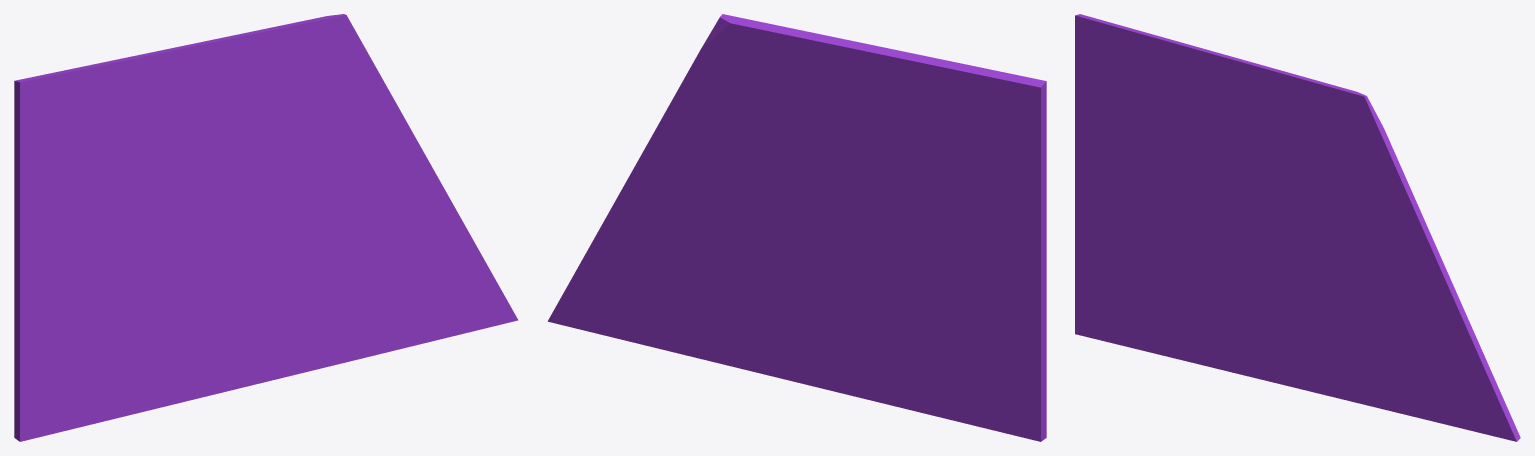
Rendered from Window_36_1_chunks.fbx.
3 renders of one model, left to right at view 1: azimuth 30°, elevation 25°; view 2: azimuth 150°, elevation 25°; view 3: azimuth 330°, elevation 25°, orthographic. The views are drawn at different scales.
Visible parts, largest first — view 1: Window_36_1_4, Window_36_1_8, Window_36_1_5, Window_36_1_21, Window_36_1_7, Window_36_1_2, Window_36_1_6, Window_36_1_20, Window_36_1_14, Window_36_1_19, Window_36_1_26, Window_36_1_3 (+18 smaller); view 2: Window_36_1_4, Window_36_1_8, Window_36_1_21, Window_36_1_2, Window_36_1_5, Window_36_1_3, Window_36_1_7, Window_36_1_14, Window_36_1_0, Window_36_1_20, Window_36_1_6, Window_36_1_26 (+13 smaller); view 3: Window_36_1_4, Window_36_1_8, Window_36_1_5, Window_36_1_21, Window_36_1_7, Window_36_1_2, Window_36_1_6, Window_36_1_20, Window_36_1_14, Window_36_1_19, Window_36_1_26, Window_36_1_3 (+18 smaller).
Boxes of the visible parts, x1,y1,x2,y2 form: Window_36_1_4: (14, 241, 189, 441); Window_36_1_8: (14, 57, 155, 223); Window_36_1_5: (14, 132, 171, 277); Window_36_1_21: (259, 233, 413, 371); Window_36_1_7: (123, 26, 288, 136); Window_36_1_2: (280, 14, 405, 134); Window_36_1_6: (167, 87, 273, 214); Window_36_1_20: (195, 298, 305, 393); Window_36_1_14: (319, 120, 415, 233); Window_36_1_19: (188, 213, 266, 325); Window_36_1_26: (394, 241, 498, 339); Window_36_1_3: (132, 307, 217, 414); Window_36_1_4: (881, 243, 1046, 441); Window_36_1_8: (897, 60, 1046, 228); Window_36_1_21: (649, 242, 797, 371); Window_36_1_2: (657, 14, 779, 150); Window_36_1_5: (900, 149, 1046, 274); Window_36_1_3: (832, 284, 951, 419); Window_36_1_7: (780, 26, 943, 132); Window_36_1_14: (646, 126, 746, 251); Window_36_1_0: (769, 27, 838, 189); Window_36_1_20: (752, 296, 857, 390); Window_36_1_6: (830, 102, 904, 214); Window_36_1_26: (561, 241, 670, 338); Window_36_1_4: (1075, 188, 1225, 358); Window_36_1_8: (1075, 14, 1195, 130); Window_36_1_5: (1075, 118, 1209, 198); Window_36_1_21: (1287, 271, 1423, 419); Window_36_1_7: (1166, 41, 1312, 129); Window_36_1_2: (1305, 82, 1422, 215); Window_36_1_6: (1205, 127, 1299, 203); Window_36_1_20: (1230, 307, 1327, 395); Window_36_1_14: (1340, 214, 1431, 290); Window_36_1_19: (1224, 235, 1293, 310); Window_36_1_26: (1406, 322, 1499, 437); Window_36_1_3: (1174, 287, 1249, 376).
Size of the model in its own units: 1394 by 961 by 27.2.
